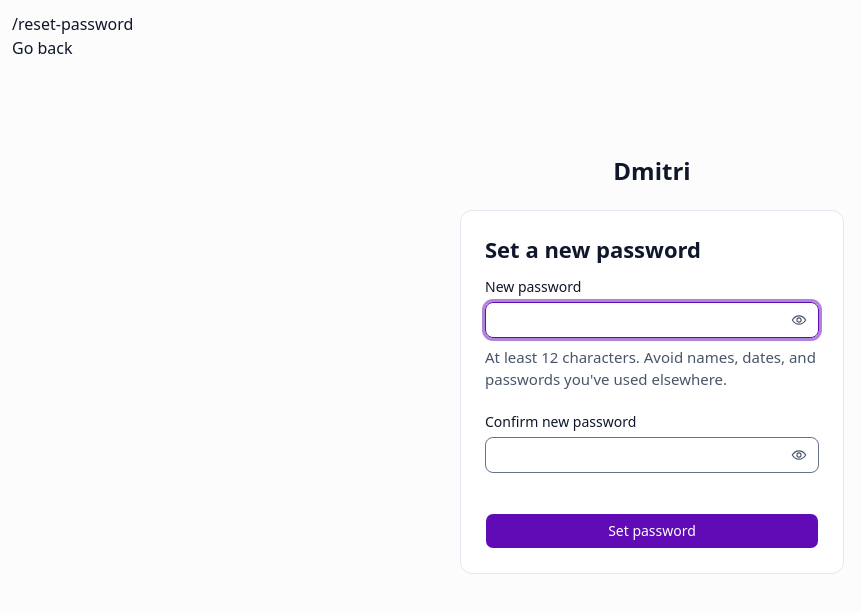
Test: ResetPassword › recovers from a network failure with the approved error and both values preserved
In the password field labelled "New password": x=652, y=320 [485, 302, 819, 338], type "a-long-enough-password"
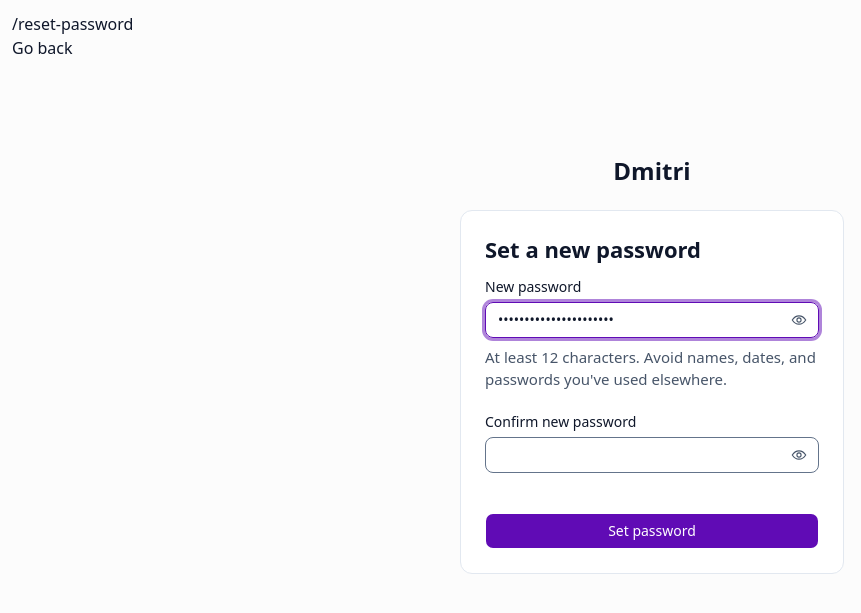
In the password field labelled "Confirm new password": x=652, y=455 [485, 437, 819, 473], type "a-long-enough-password"
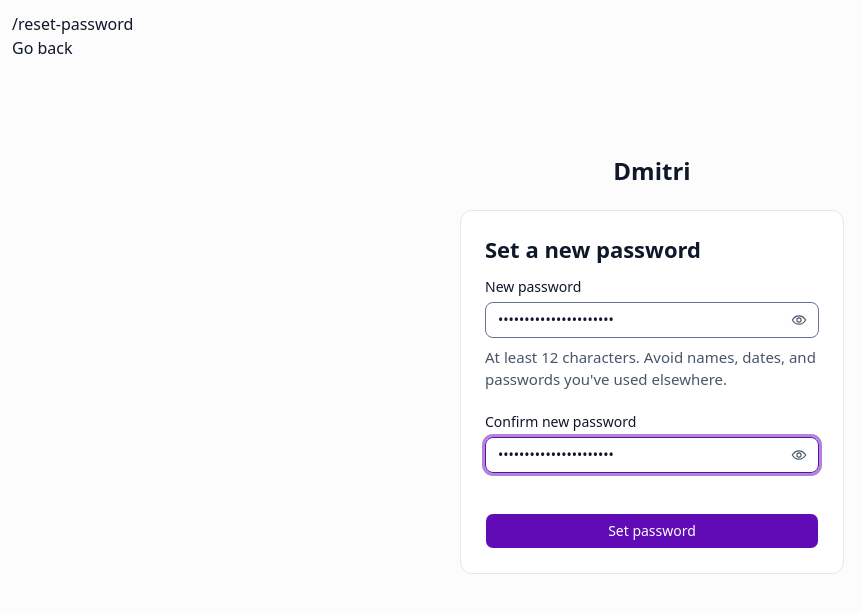
Click the button with test id "reset-submit": x=652, y=531 [485, 513, 819, 549]
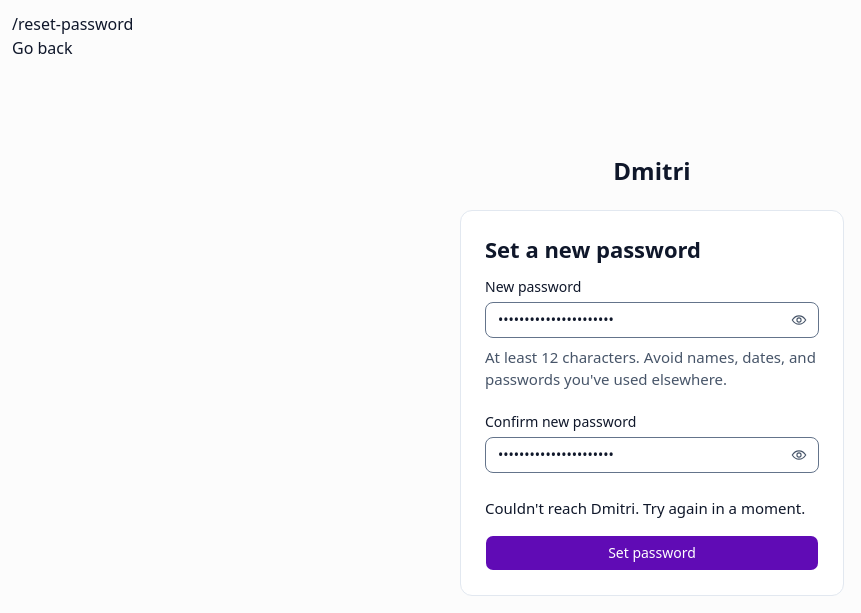
Expected: the button with test id "reset-submit" is enabled, [485, 535, 819, 571]
Expected: the message with test id "reset-error" reads "Couldn't reach Dmitri. Try again in a moment.", [485, 498, 805, 518]
